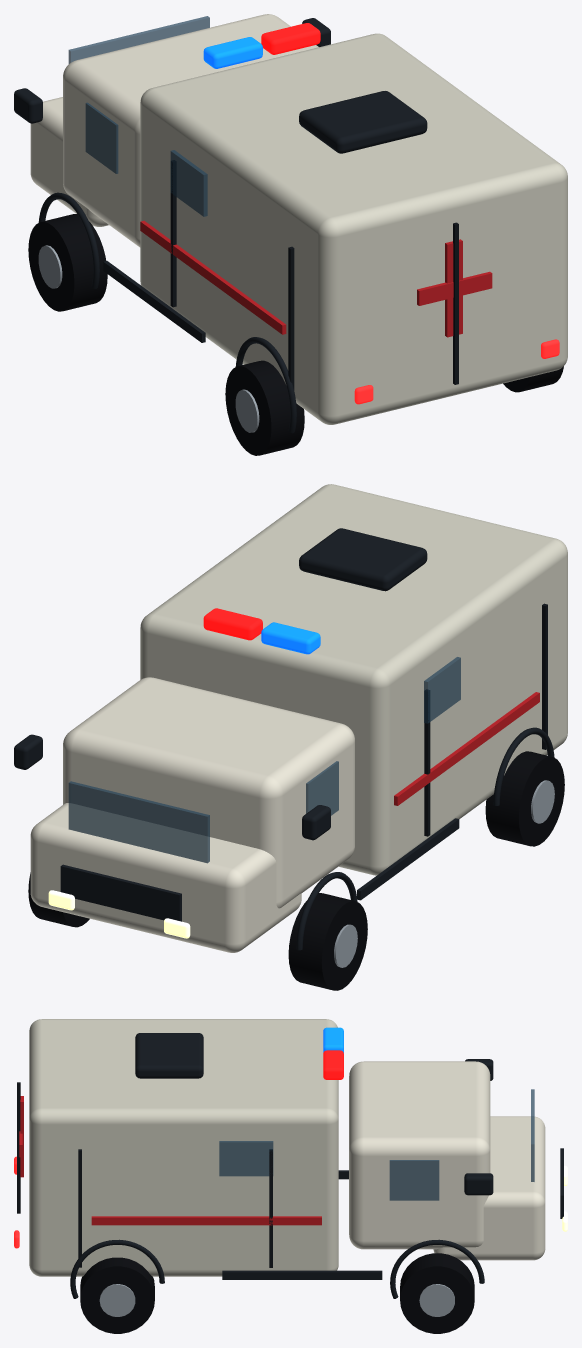
The model's file is emergency_ambulance_near.glb.
3 views of the same model, one above another, from view 1: azimuth 30°, elevation 25°; view 2: azimuth 150°, elevation 25°; view 3: azimuth 270°, elevation 25° (orthographic). The views are drawn at different scales.
Parts seen in each view (by area): view 1: emergency_ambulance_near_medical_box_body_panel_with_rounded, emergency_ambulance_near_forward_cab_body, emergency_ambulance_near_roof_hvac_service_hatch_panel, emergency_ambulance_near_front_left_wheel_tire, emergency_ambulance_near_rear_left_wheel_tire, emergency_ambulance_near_front_hood_body_panel, emergency_ambulance_near_left_red_emergency_side_stripe_mark, emergency_ambulance_near_front_windshield_glass, emergency_ambulance_near_left_cab_side_window_glass, emergency_ambulance_near_left_medical_box_side_service_windo, emergency_ambulance_near_left_step_board_dark_trim, emergency_ambulance_near_red_roof_lightbar_emitter (+12 smaller); view 2: emergency_ambulance_near_medical_box_body_panel_with_rounded, emergency_ambulance_near_forward_cab_body, emergency_ambulance_near_front_hood_body_panel, emergency_ambulance_near_front_windshield_glass, emergency_ambulance_near_roof_hvac_service_hatch_panel, emergency_ambulance_near_front_left_wheel_tire, emergency_ambulance_near_rear_left_wheel_tire, emergency_ambulance_near_front_grille_dark_trim, emergency_ambulance_near_left_red_emergency_side_stripe_mark, emergency_ambulance_near_left_medical_box_side_service_windo, emergency_ambulance_near_left_step_board_dark_trim, emergency_ambulance_near_blue_roof_lightbar_emitter (+11 smaller); view 3: emergency_ambulance_near_medical_box_body_panel_with_rounded, emergency_ambulance_near_forward_cab_body, emergency_ambulance_near_front_hood_body_panel, emergency_ambulance_near_front_right_wheel_tire, emergency_ambulance_near_rear_right_wheel_tire, emergency_ambulance_near_roof_hvac_service_hatch_panel, emergency_ambulance_near_right_red_emergency_side_stripe_mar, emergency_ambulance_near_right_cab_side_window_glass, emergency_ambulance_near_right_medical_box_side_service_wind, emergency_ambulance_near_right_step_board_dark_trim, emergency_ambulance_near_rear_right_wheel_outer_hub, emergency_ambulance_near_front_right_wheel_outer_hub (+8 smaller).
Boxes of the visible parts, x1,y1,x2,y2 form: emergency_ambulance_near_medical_box_body_panel_with_rounded: (140, 33, 567, 424); emergency_ambulance_near_forward_cab_body: (63, 14, 318, 247); emergency_ambulance_near_roof_hvac_service_hatch_panel: (299, 91, 427, 153); emergency_ambulance_near_front_left_wheel_tire: (28, 214, 107, 311); emergency_ambulance_near_rear_left_wheel_tire: (225, 360, 304, 455); emergency_ambulance_near_front_hood_body_panel: (30, 97, 108, 226); emergency_ambulance_near_left_red_emergency_side_stripe_mark: (140, 220, 286, 334); emergency_ambulance_near_front_windshield_glass: (68, 16, 209, 63); emergency_ambulance_near_left_cab_side_window_glass: (85, 102, 118, 173); emergency_ambulance_near_left_medical_box_side_service_windo: (170, 150, 207, 216); emergency_ambulance_near_left_step_board_dark_trim: (103, 261, 205, 342); emergency_ambulance_near_red_roof_lightbar_emitter: (261, 23, 320, 54); emergency_ambulance_near_medical_box_body_panel_with_rounded: (140, 484, 567, 875); emergency_ambulance_near_forward_cab_body: (63, 677, 354, 908); emergency_ambulance_near_front_hood_body_panel: (30, 803, 301, 952); emergency_ambulance_near_front_windshield_glass: (68, 781, 209, 863); emergency_ambulance_near_roof_hvac_service_hatch_panel: (299, 528, 427, 591); emergency_ambulance_near_front_left_wheel_tire: (288, 893, 367, 990); emergency_ambulance_near_rear_left_wheel_tire: (485, 751, 564, 846); emergency_ambulance_near_front_grille_dark_trim: (60, 864, 181, 921); emergency_ambulance_near_left_red_emergency_side_stripe_mark: (394, 692, 539, 805); emergency_ambulance_near_left_medical_box_side_service_windo: (424, 657, 460, 723); emergency_ambulance_near_left_step_board_dark_trim: (357, 818, 459, 900); emergency_ambulance_near_blue_roof_lightbar_emitter: (261, 622, 320, 654); emergency_ambulance_near_medical_box_body_panel_with_rounded: (29, 1019, 338, 1276); emergency_ambulance_near_forward_cab_body: (349, 1061, 490, 1249); emergency_ambulance_near_front_hood_body_panel: (433, 1116, 545, 1260); emergency_ambulance_near_front_right_wheel_tire: (400, 1253, 474, 1333); emergency_ambulance_near_rear_right_wheel_tire: (80, 1257, 154, 1333); emergency_ambulance_near_roof_hvac_service_hatch_panel: (135, 1033, 203, 1078); emergency_ambulance_near_right_red_emergency_side_stripe_mar: (91, 1216, 321, 1225); emergency_ambulance_near_right_cab_side_window_glass: (389, 1160, 439, 1200); emergency_ambulance_near_right_medical_box_side_service_wind: (219, 1141, 273, 1176); emergency_ambulance_near_right_step_board_dark_trim: (222, 1270, 382, 1279); emergency_ambulance_near_rear_right_wheel_outer_hub: (99, 1284, 135, 1316); emergency_ambulance_near_front_right_wheel_outer_hub: (419, 1284, 454, 1316).
Size of the model in its own units: 2.73 by 2.42 by 5.33.
